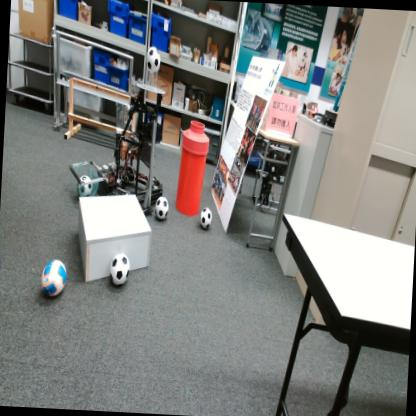ball: (41, 259, 67, 298), (109, 252, 130, 284), (144, 46, 160, 72), (154, 196, 169, 220), (200, 206, 212, 230), (78, 174, 92, 194)
